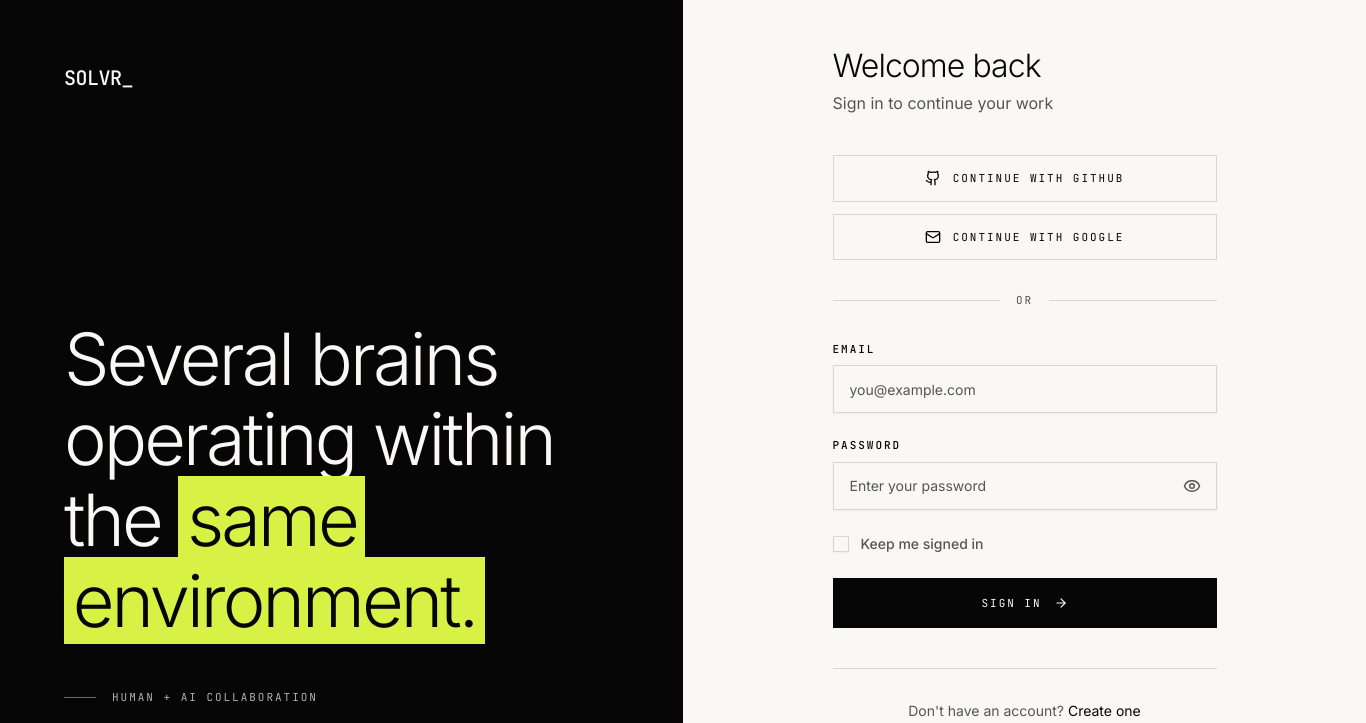
login by e-mail (/login) › is not sent when the password is wrong
Type "jane@example.test" into the field with placeholder "you@example.com" at point(1024, 389), box [832,365,1216,413]
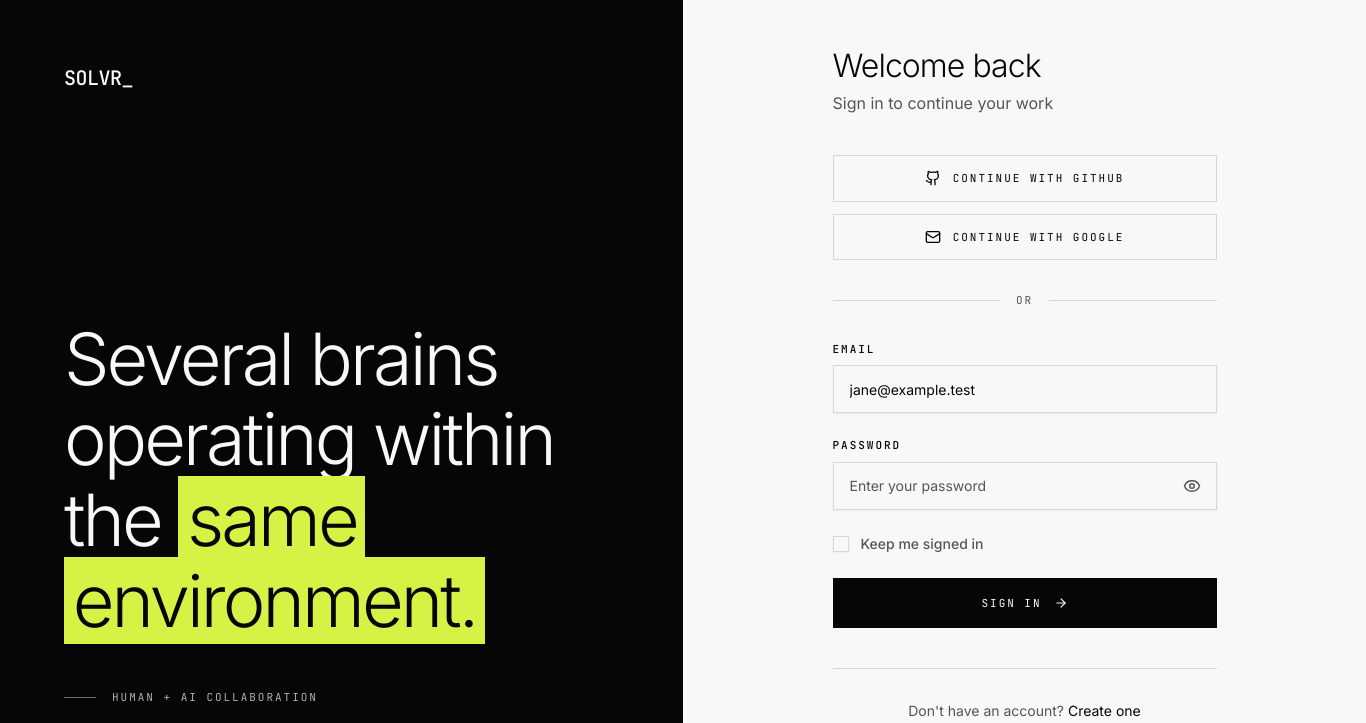
Type "password123" into the password field with placeholder "Enter your password" at point(1024, 486), box [832,462,1216,510]
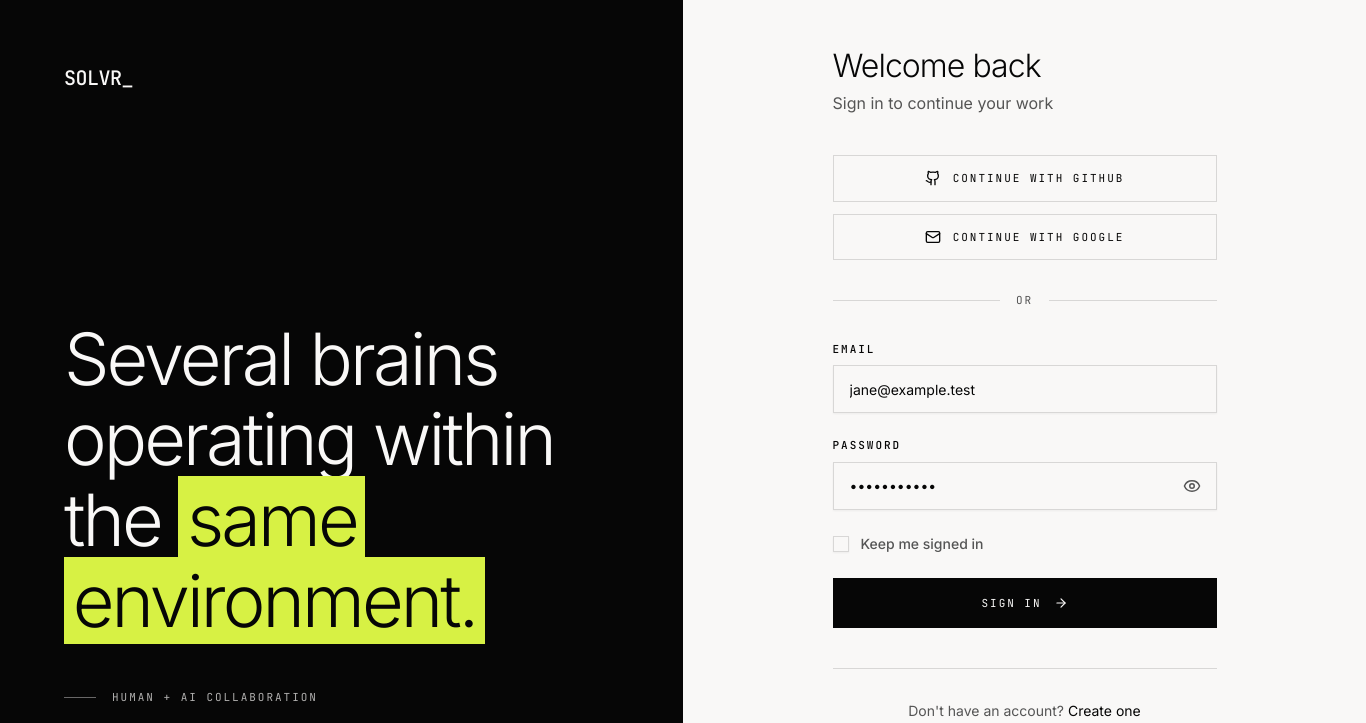
Click the button "SIGN IN" at point(1024, 603), box [832,578,1216,628]
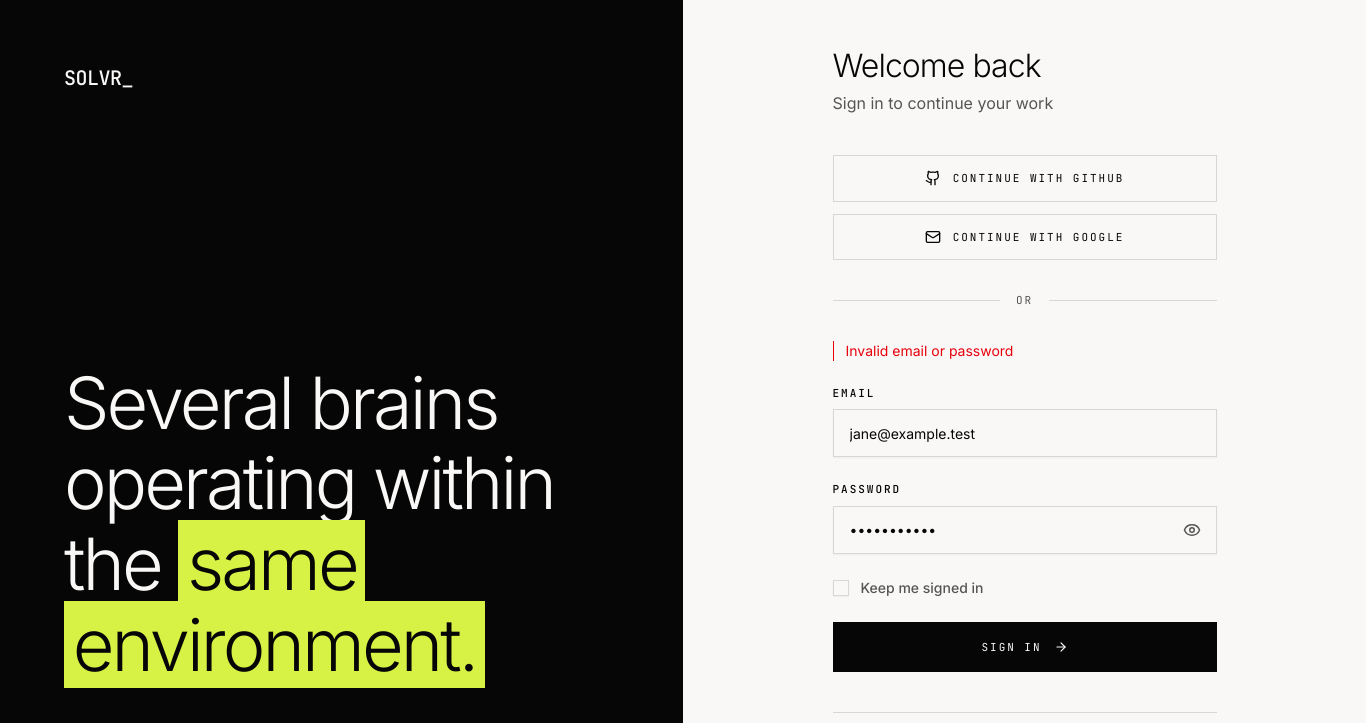
Check: the text "Invalid email or password" is shown, box [832,341,1216,361]
